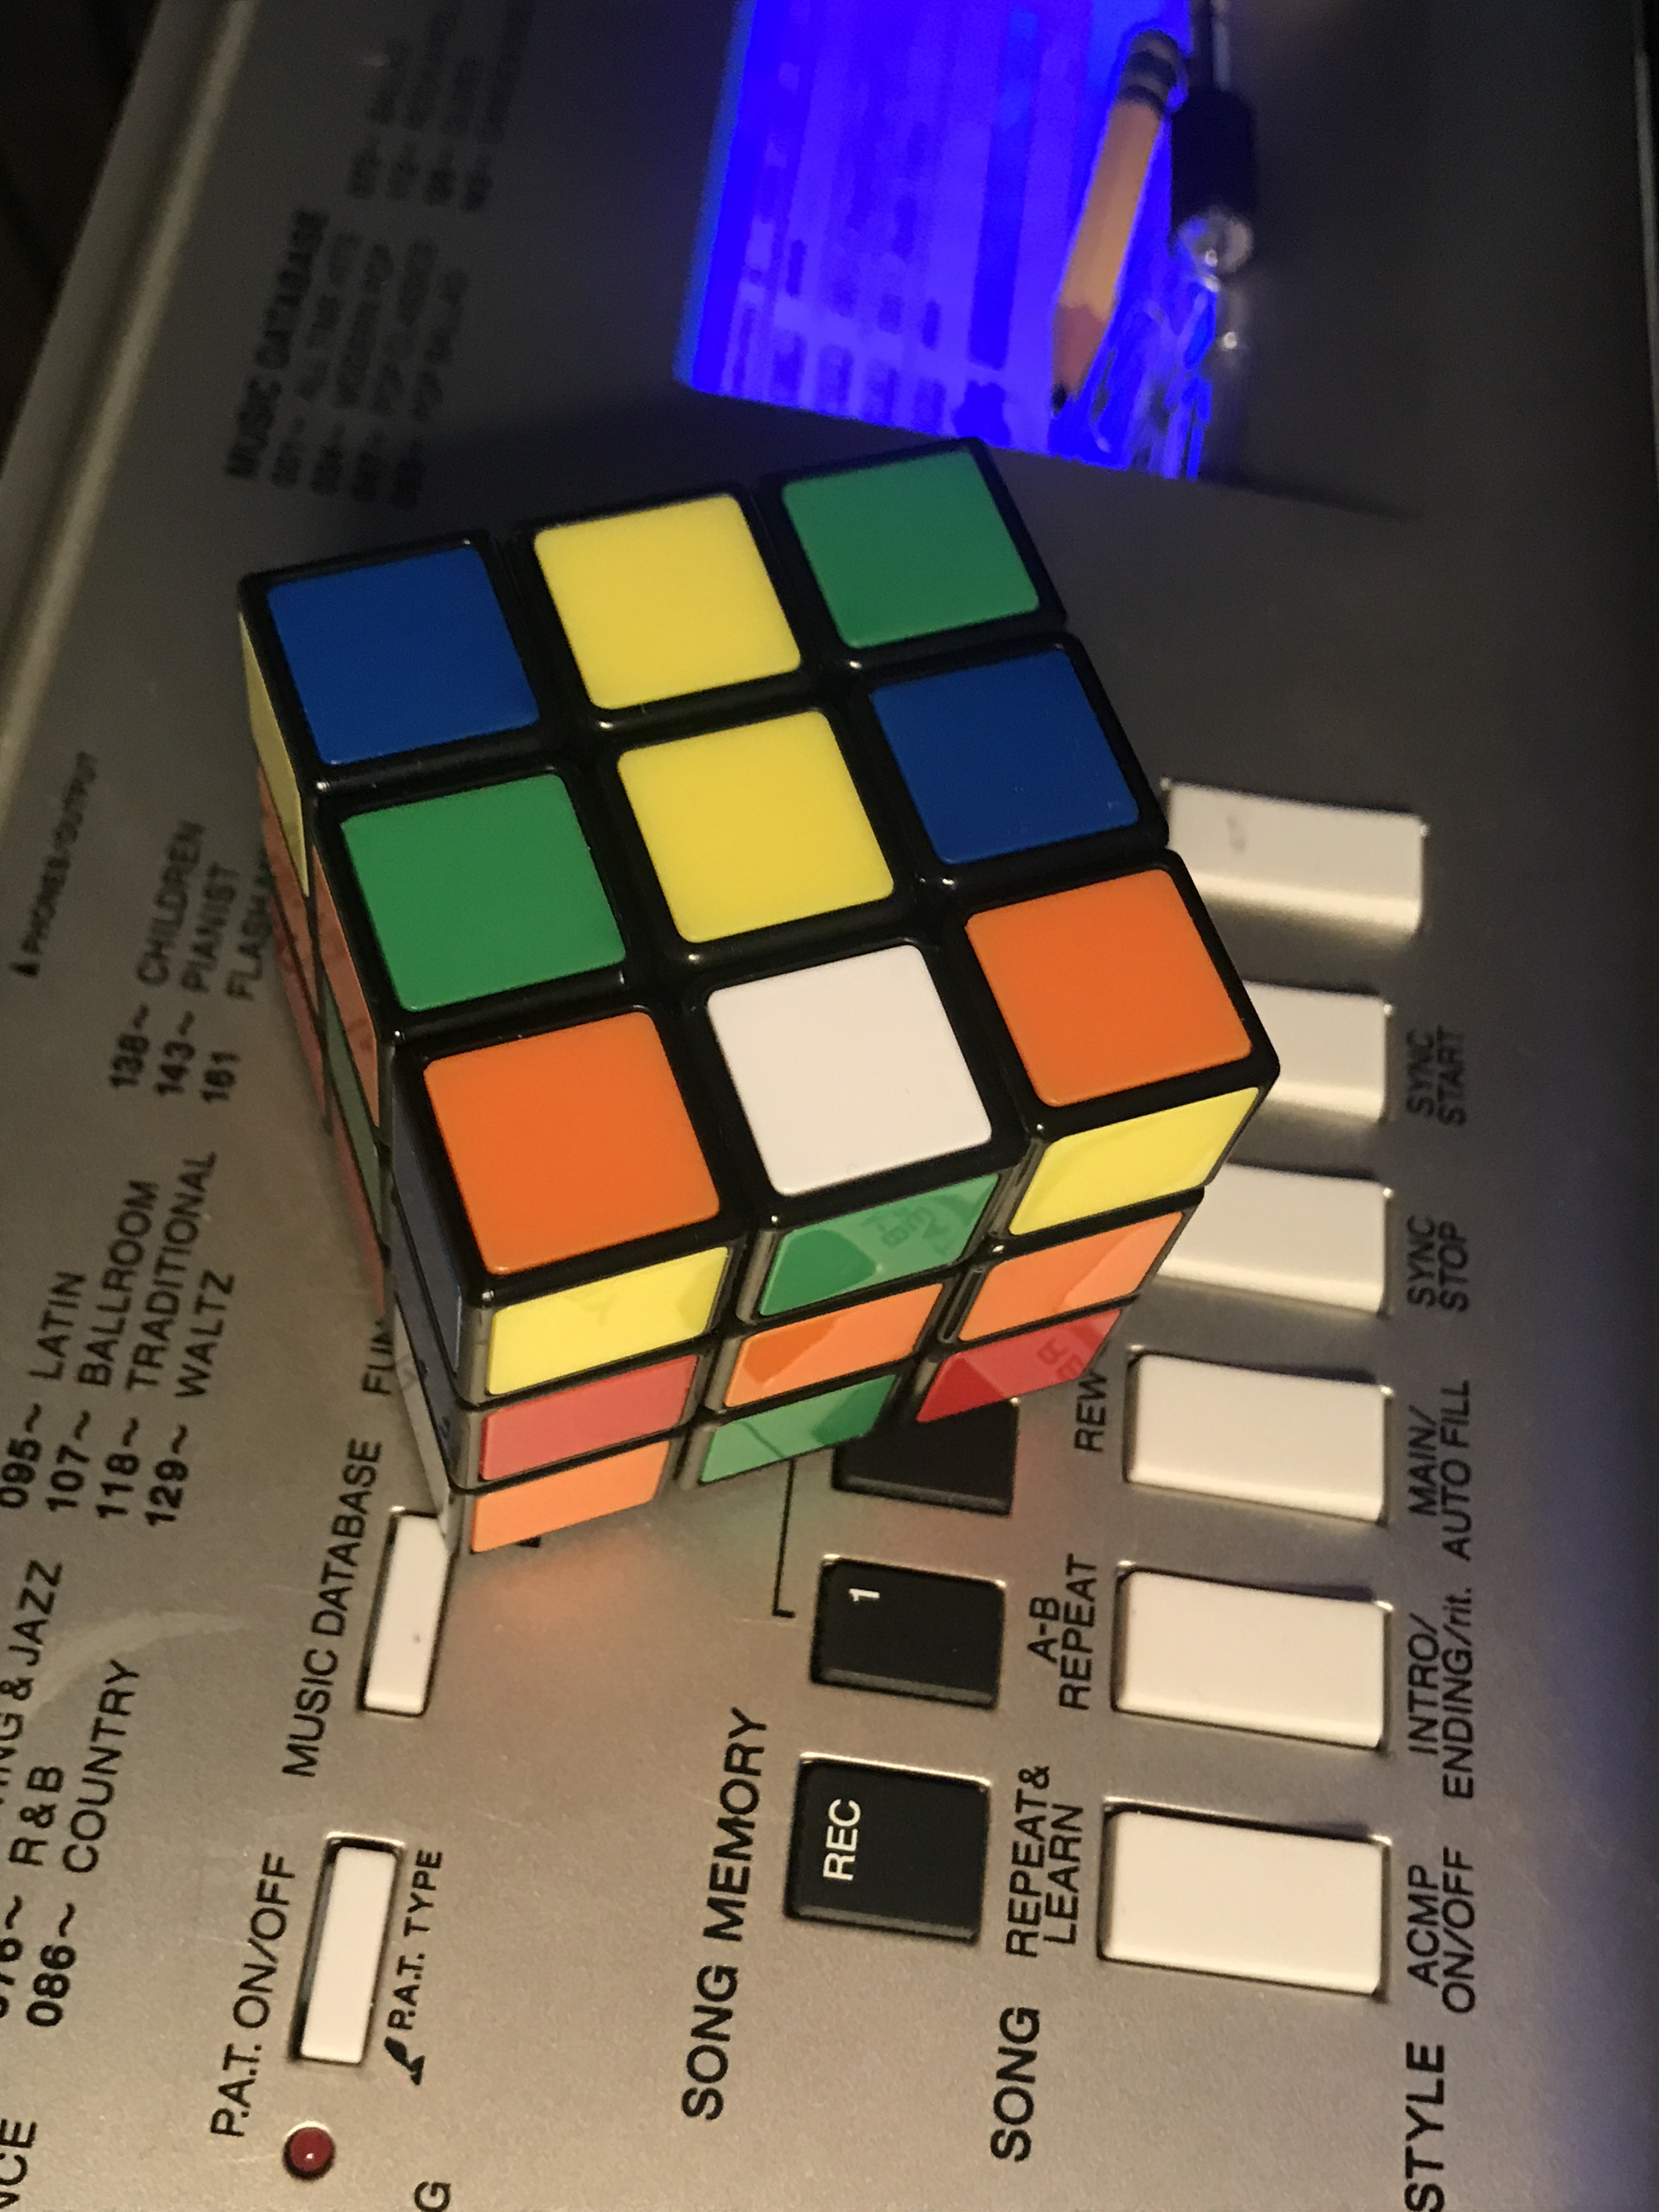rubiks: (207, 446, 1225, 1576)
